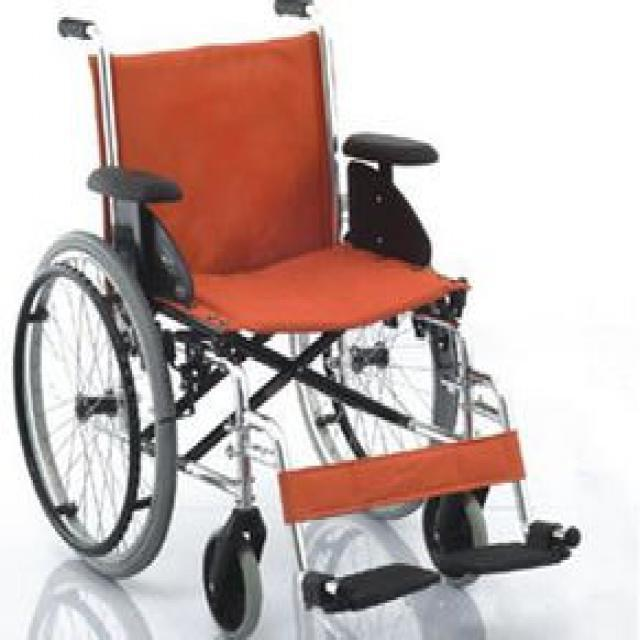wheelchair: (8, 2, 580, 632)
